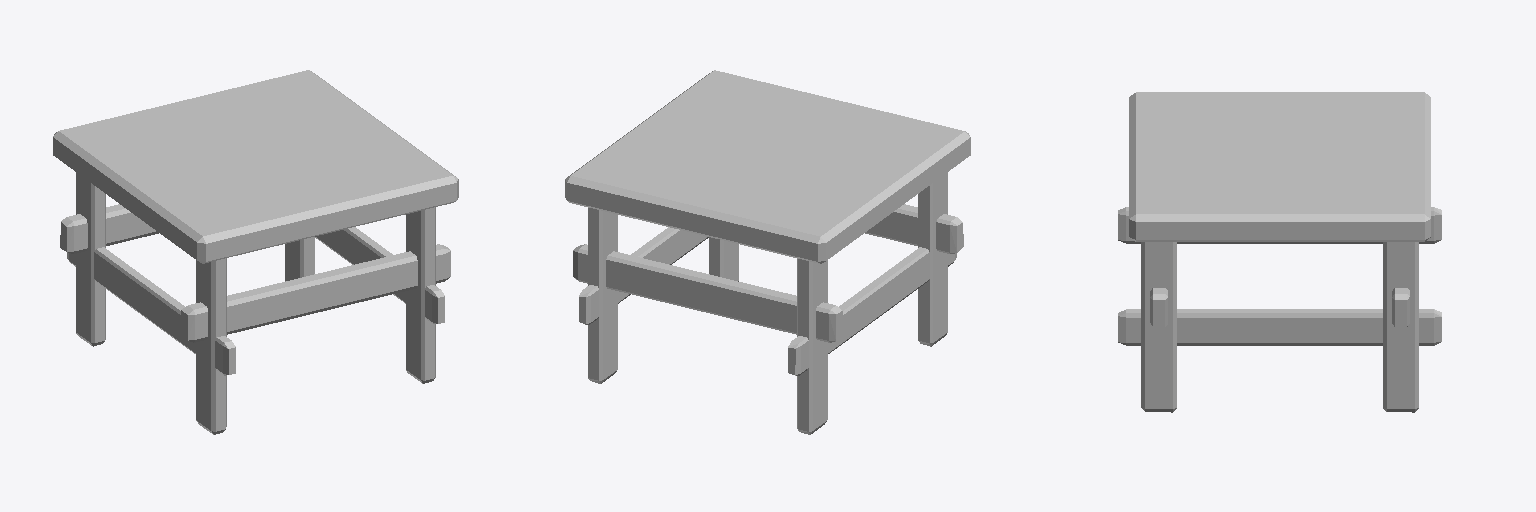
The model's file is tablechevet.obj.
The picture shows the model from 3 angles: view 1: azimuth 30°, elevation 25°; view 2: azimuth 150°, elevation 25°; view 3: azimuth 270°, elevation 25°; orthographic projection.
Visible parts, largest first — view 1: Cube, Cube.008, Cube.005, Cube.002, Cube.003, Cube.001, Cube.006, Cube.007, Cube.004; view 2: Cube, Cube.007, Cube.005, Cube.001, Cube.004, Cube.002, Cube.006, Cube.008, Cube.003; view 3: Cube, Cube.006, Cube.004, Cube.003, Cube.005, Cube.007, Cube.008.
Part boxes in pixels (left/top/right/bottom): Cube: left=53, top=70, right=458, bottom=263; Cube.008: left=181, top=244, right=450, bottom=342; Cube.005: left=67, top=247, right=235, bottom=375; Cube.002: left=196, top=258, right=226, bottom=434; Cube.003: left=406, top=207, right=435, bottom=383; Cube.001: left=76, top=172, right=105, bottom=346; Cube.006: left=315, top=227, right=444, bottom=323; Cube.007: left=60, top=204, right=158, bottom=253; Cube.004: left=285, top=237, right=314, bottom=281; Cube: left=565, top=70, right=970, bottom=263; Cube.007: left=573, top=244, right=842, bottom=342; Cube.005: left=788, top=247, right=956, bottom=375; Cube.001: left=797, top=259, right=827, bottom=434; Cube.004: left=588, top=208, right=617, bottom=383; Cube.002: left=918, top=172, right=947, bottom=346; Cube.006: left=579, top=227, right=708, bottom=324; Cube.008: left=865, top=204, right=963, bottom=253; Cube.003: left=709, top=237, right=738, bottom=281; Cube: left=1129, top=92, right=1430, bottom=241; Cube.006: left=1118, top=309, right=1441, bottom=345; Cube.004: left=1383, top=242, right=1418, bottom=412; Cube.003: left=1141, top=242, right=1176, bottom=412; Cube.005: left=1118, top=207, right=1441, bottom=243; Cube.007: left=1392, top=288, right=1409, bottom=326; Cube.008: left=1150, top=288, right=1167, bottom=326.
Bounding box in the file's own units: 0.5042 × 0.375 × 0.5358.